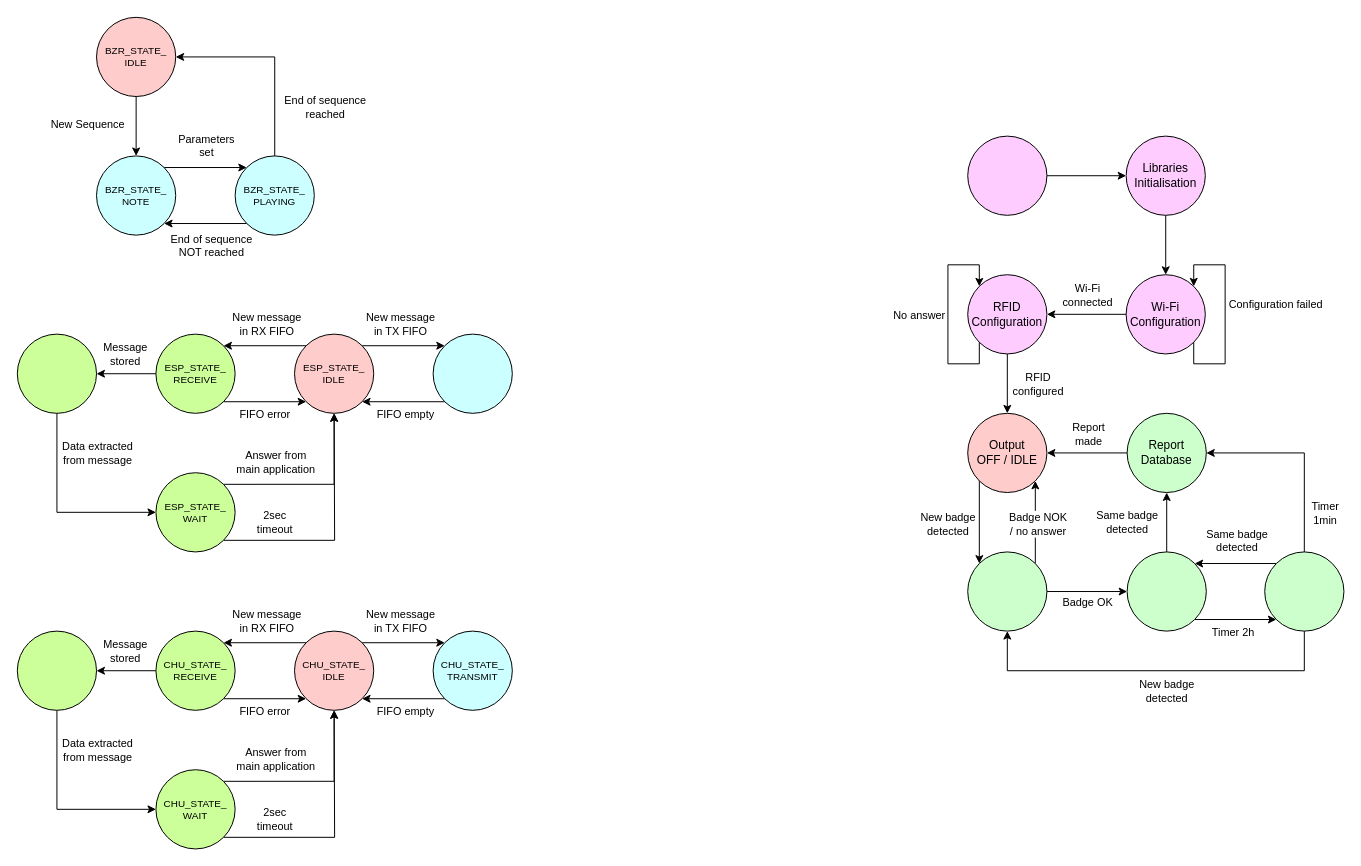
Image size: 1361x866. Some labels were removed from this diagram. Each missing label, with the centre of its shape:
Asking Database: pixel 1007 591
CHU_STATE_ TRANSLATE: pixel 56 670
ESP_STATE_ TRANSLATE: pixel 56 373
ESP_STATE_ TRANSMIT: pixel 472 373
Output ON: pixel 1166 591
Peripherals Initialisation: pixel 1007 175
Timeout: pixel 1304 591
